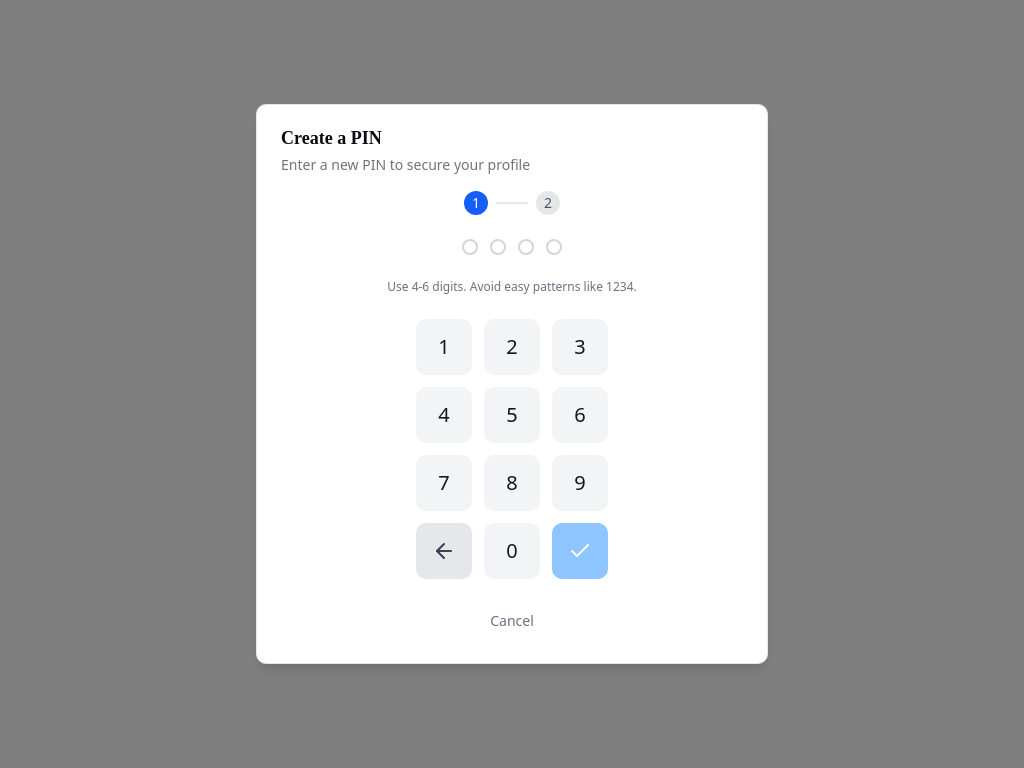
PinSetupModal › step 1 - create PIN › advances to step 2 on Next
Enter PIN
What coordinates should you click on to do the following:
click the button "1"
I would click on:
 (444, 347)
Its box is [416,319,472,375].
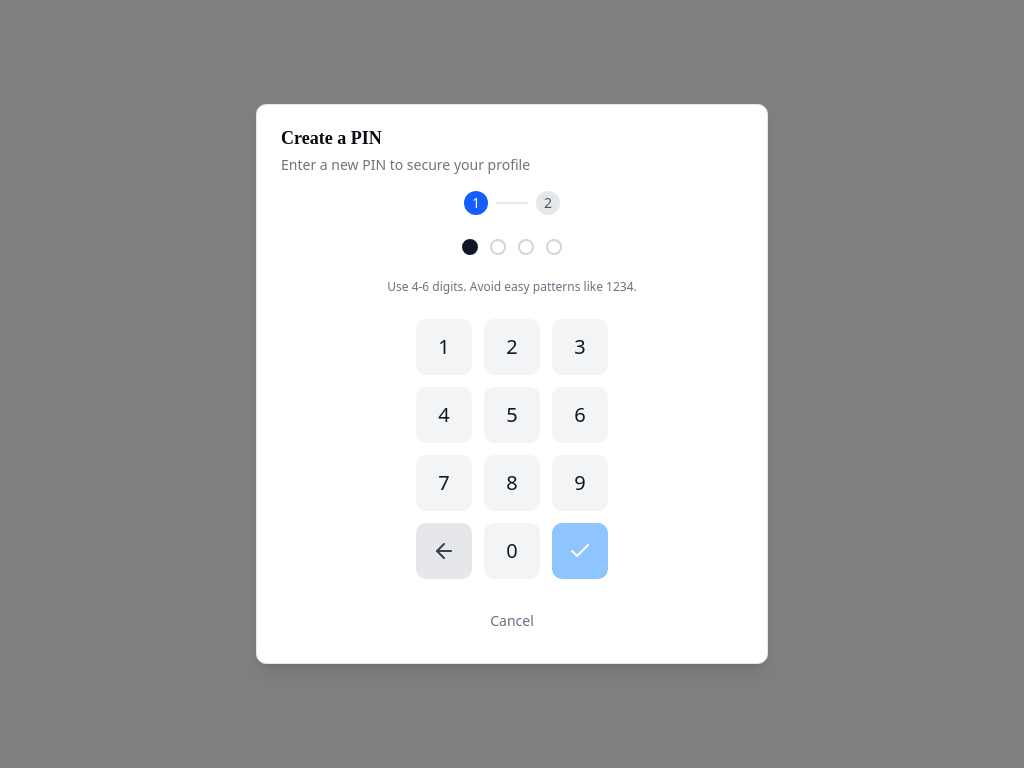
What coordinates should you click on to do the following:
click the button "2"
I would click on:
 (512, 347)
Its box is [484,319,540,375].
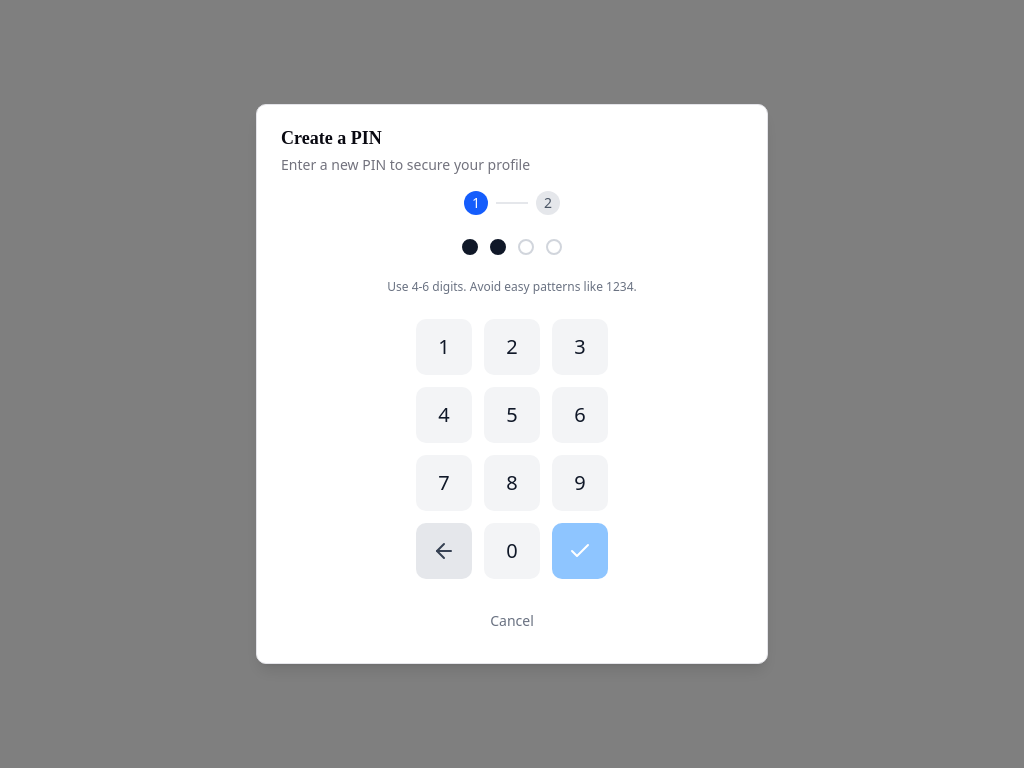
What coordinates should you click on to do the following:
click the button "3"
I would click on:
 (580, 347)
Its box is [552,319,608,375].
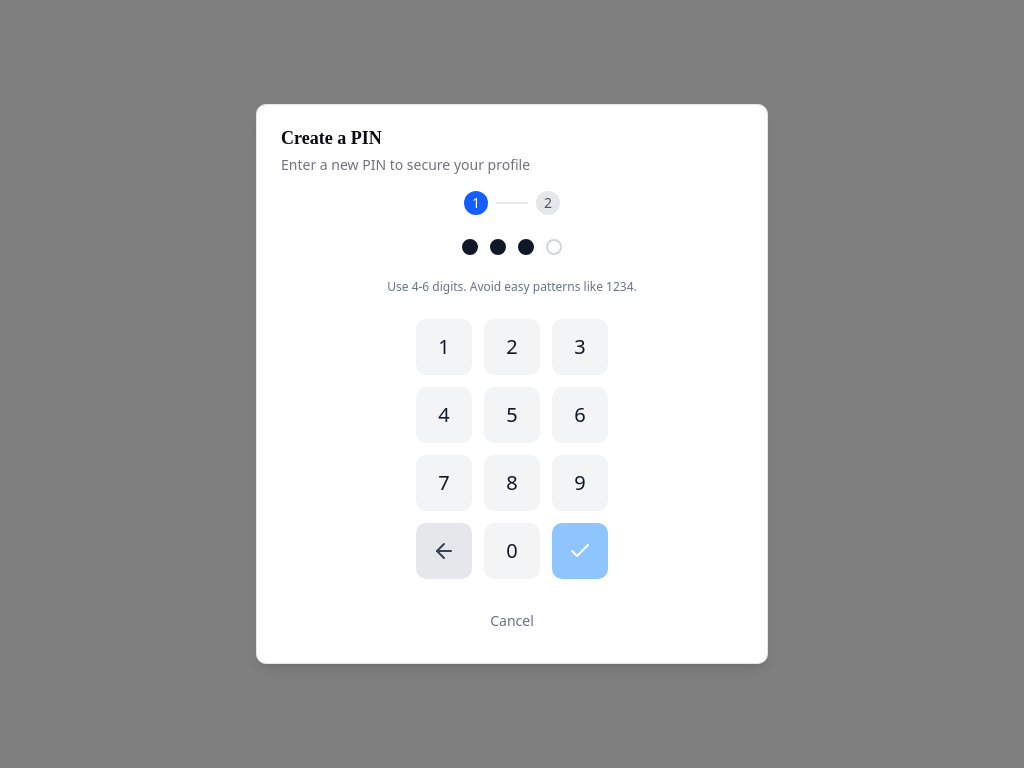
What coordinates should you click on to do the following:
click the button "4"
I would click on:
 (444, 415)
Its box is [416,387,472,443].
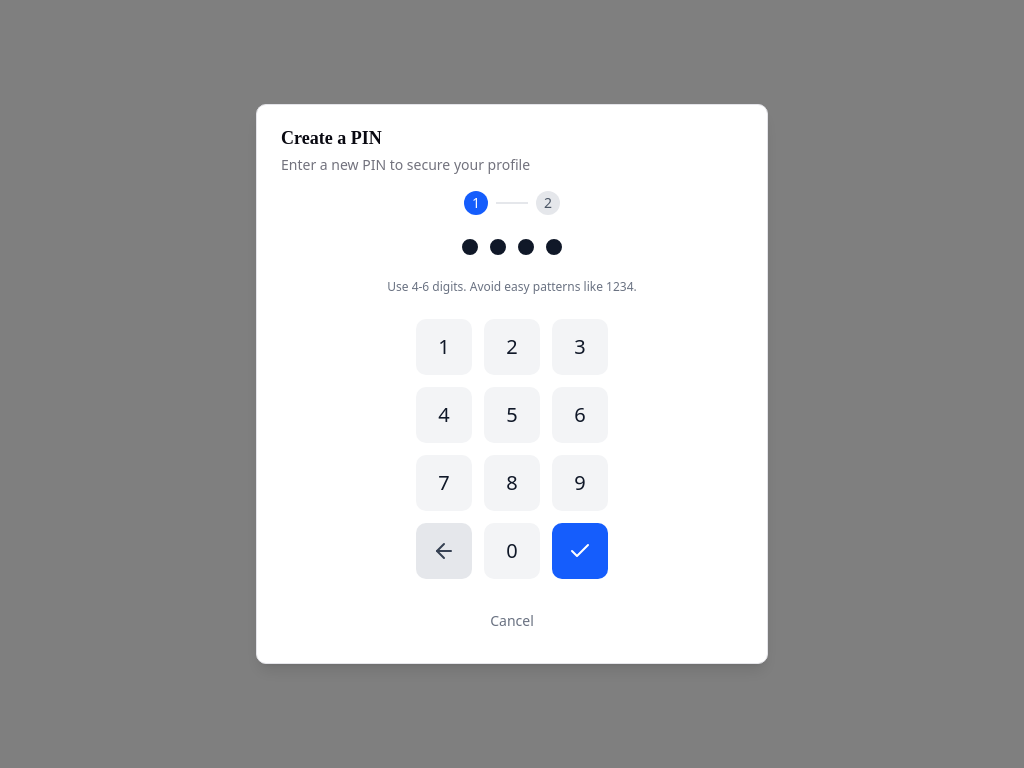
Click Next (submit button)
What coordinates should you click on to do the following:
click the button named "submit"
I would click on:
 (580, 551)
Its box is [552,523,608,579].
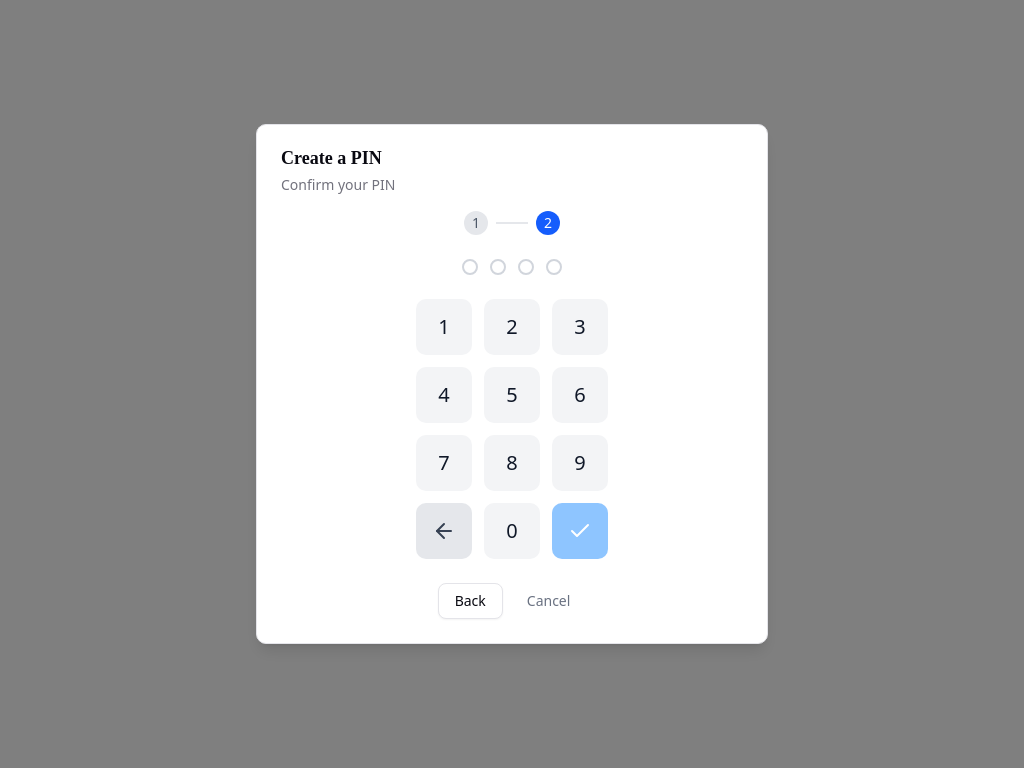
Expected: the text "Confirm your PIN" is shown, [281,175,396,194]
